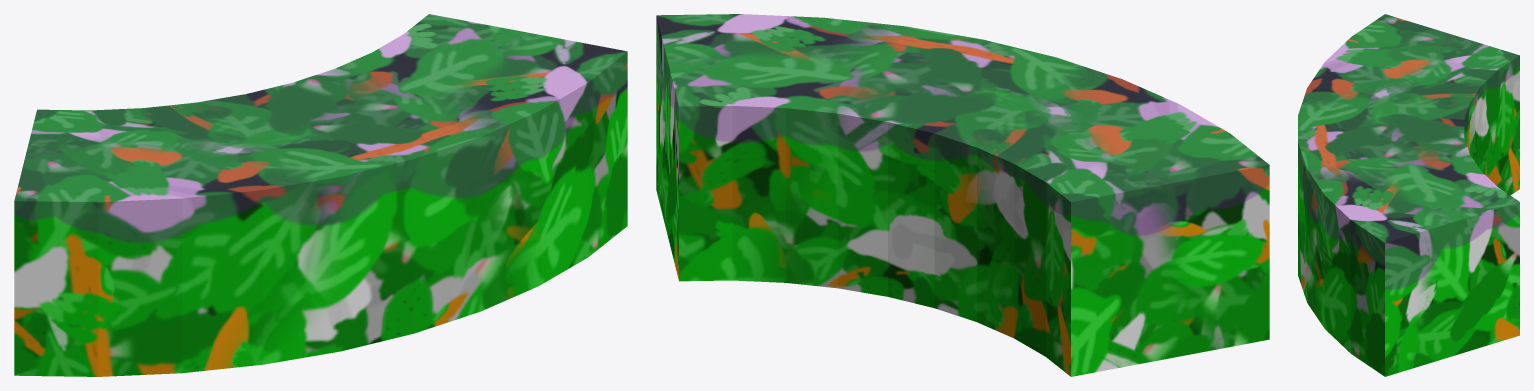
The model's file is yasai_gaisyu_neo.fbx.
3 views of the same model, side by side, from view 1: azimuth 30°, elevation 25°; view 2: azimuth 150°, elevation 25°; view 3: azimuth 270°, elevation 25° (orthographic). The views are drawn at different scales.
Parts seen in each view (by area): view 1: Cylinder.002; view 2: Cylinder.002; view 3: Cylinder.002.
Part boxes in pixels (x1,y1,x2,y2): Cylinder.002: (14,14,627,376); Cylinder.002: (656,14,1269,376); Cylinder.002: (1298,14,1519,376).
Bounding box in the file's own units: 2939 × 800 × 1201.
